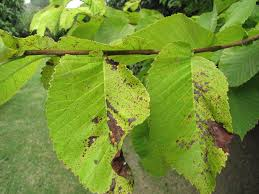unhealthy: (51, 56, 146, 188), (159, 45, 242, 182)
